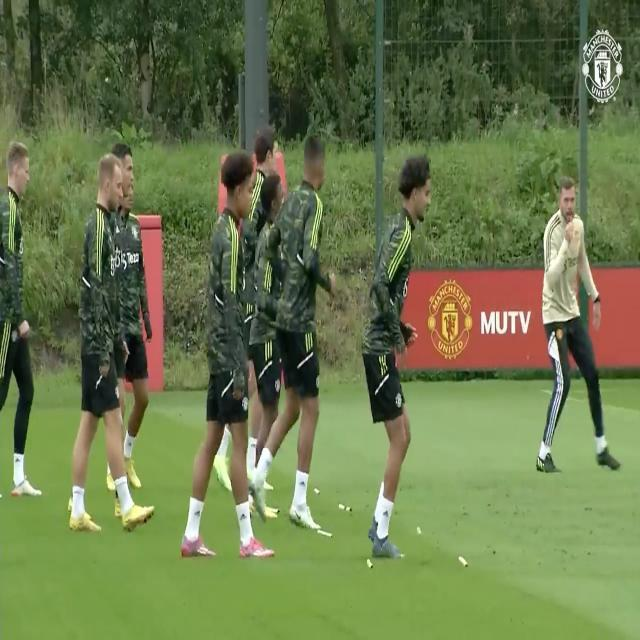Adidas: (240, 508, 248, 524), (193, 507, 202, 519), (298, 476, 306, 489), (383, 508, 391, 518)
